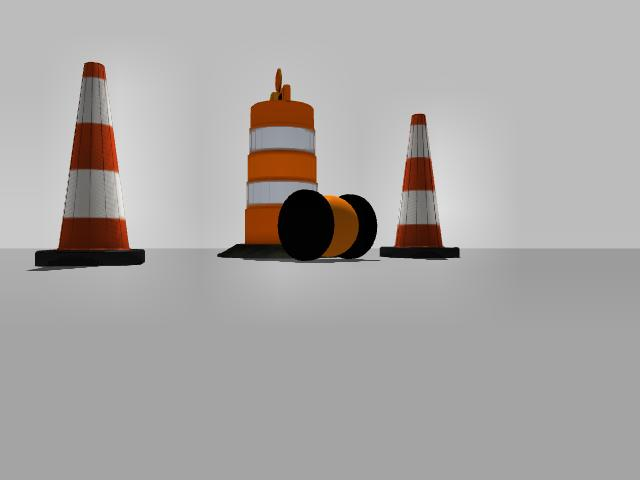target: (278, 190, 378, 263)
